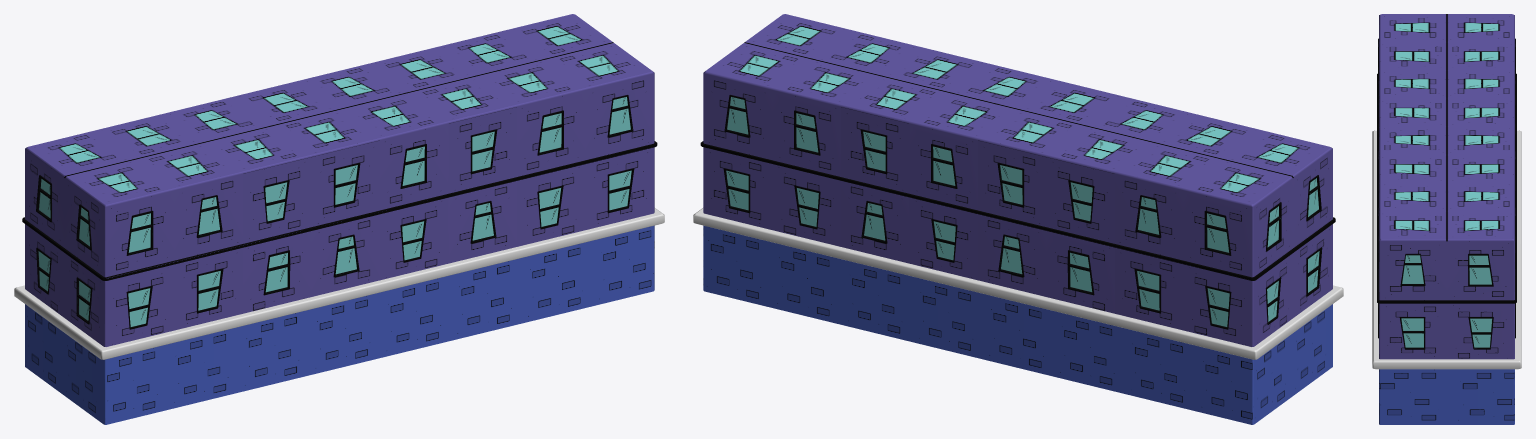
File: bigbuilding1.fbx
The picture shows the model from 3 angles, left to right: view 1: azimuth 30°, elevation 25°; view 2: azimuth 150°, elevation 25°; view 3: azimuth 270°, elevation 25°; orthographic projection. The views are drawn at different scales.
Parts seen in each view (by area): view 1: Box157, Box156, Box158; view 2: Box157, Box156, Box158; view 3: Box157, Box156, Box158.
Part boxes in pixels (x1,y1,x2,y2): Box157: (22,14,657,346); Box156: (25,225,654,424); Box158: (14,208,664,359); Box157: (700,14,1335,346); Box156: (703,225,1332,424); Box158: (693,208,1343,359); Box157: (1377,14,1516,359); Box156: (1379,369,1514,424); Box158: (1372,130,1521,369).
Size of the model in its own units: 20.18 by 7.5 by 5.48.
